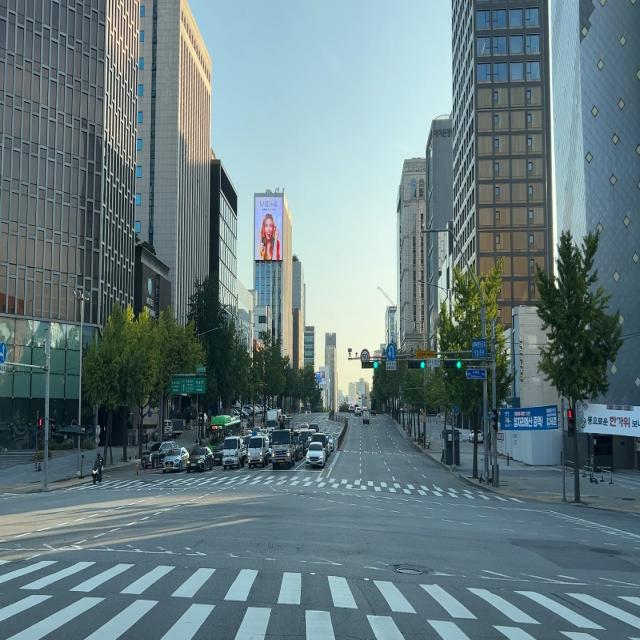Green Light: (456, 360, 462, 370), (420, 360, 425, 369), (372, 362, 378, 368)
